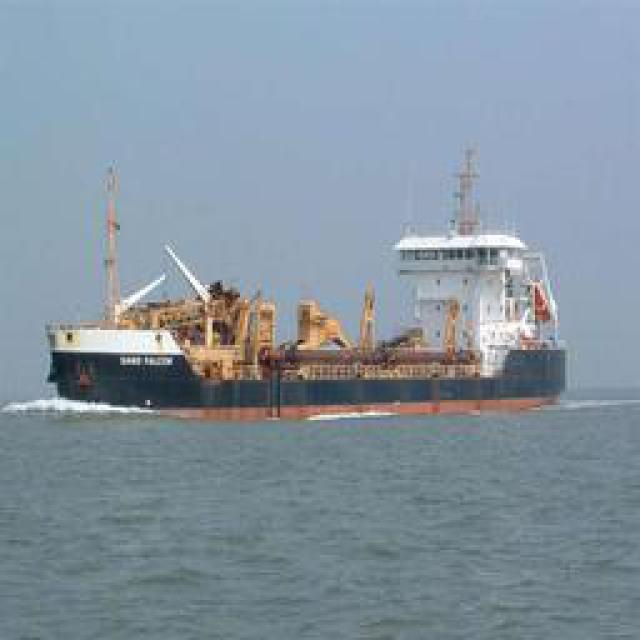Ship: (40, 143, 573, 427)
